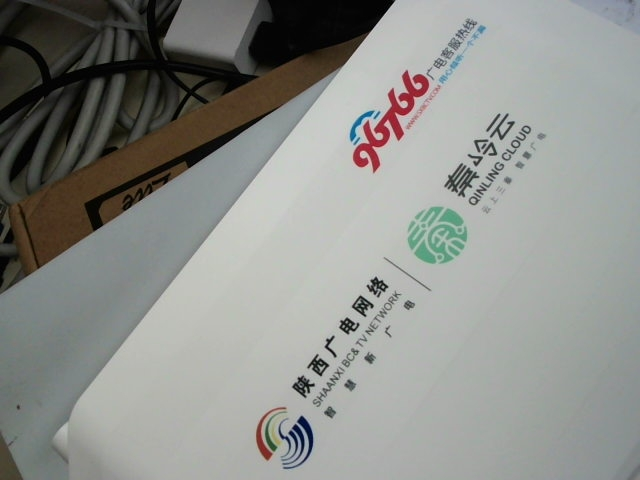QinLing: (401, 103, 549, 268)
